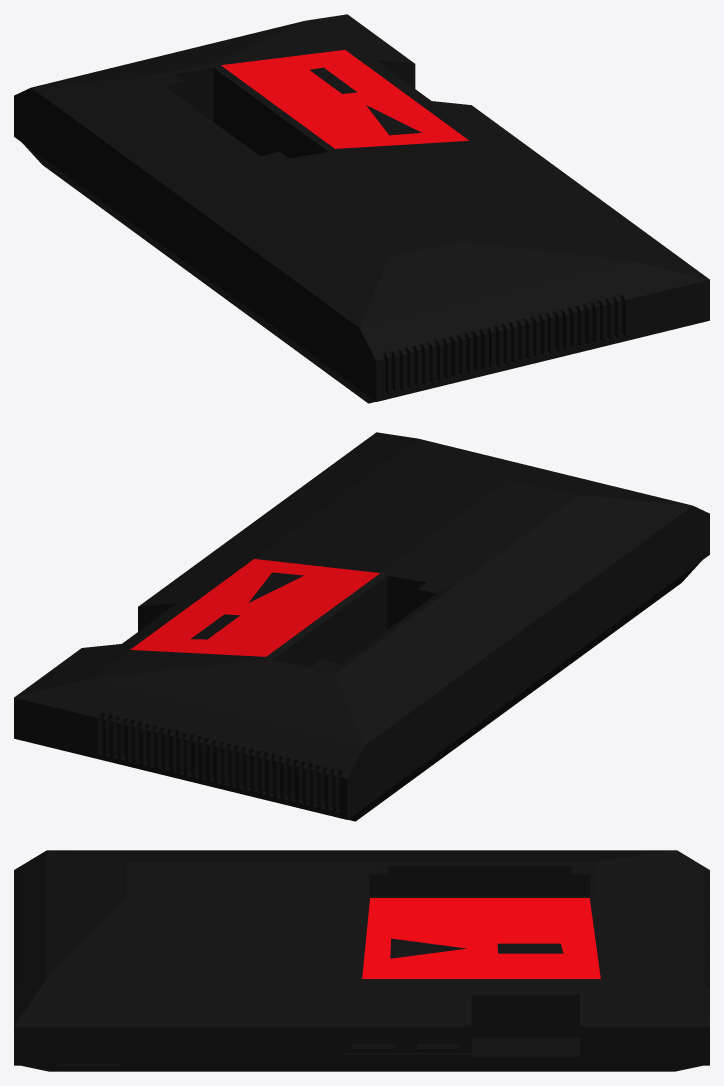
Rendered from consoleFrame.glb.
The picture shows the model from 3 angles, top to bottom: view 1: azimuth 30°, elevation 25°; view 2: azimuth 150°, elevation 25°; view 3: azimuth 270°, elevation 25°; orthographic projection. The views are drawn at different scales.
Visible parts, largest first — view 1: Cube.009; view 2: Cube.009; view 3: Cube.009.
Part boxes in pixels (<box>): Cube.009: <box>14,14,709,403</box>; Cube.009: <box>14,432,709,821</box>; Cube.009: <box>14,850,709,1071</box>.
Size of the model in its own units: 0.4974 by 0.1517 by 0.9363.
